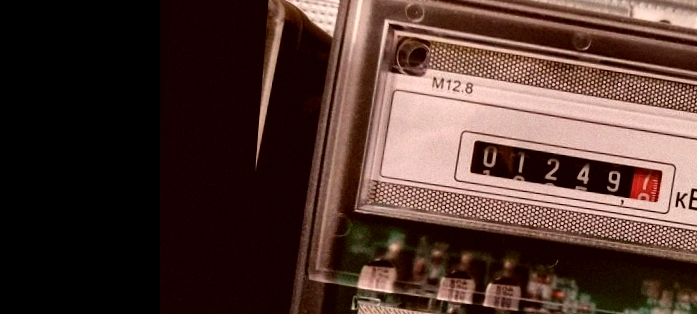0: (481, 142, 500, 169)
1: (513, 147, 529, 174)
2: (543, 155, 562, 183)
4: (575, 159, 593, 185)
7: (639, 165, 656, 192)
9: (604, 166, 623, 193)
screen: (452, 128, 681, 218)
